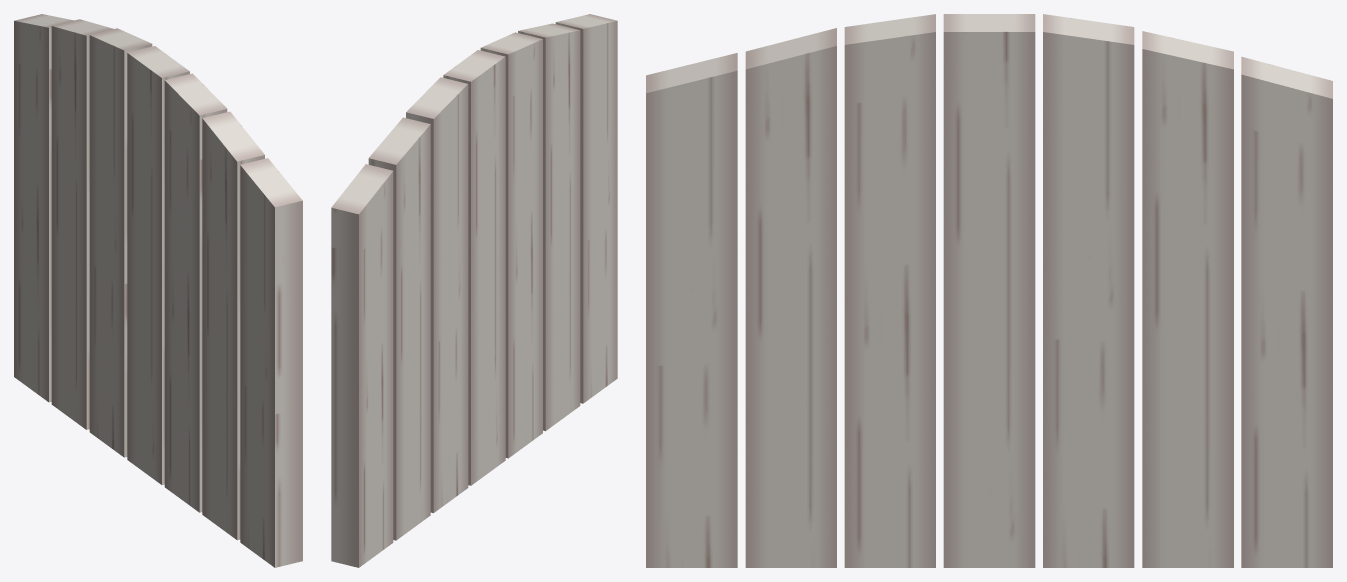
File: bg_fence_door.FBX
3 renders of one model, left to right at view 1: azimuth 30°, elevation 25°; view 2: azimuth 150°, elevation 25°; view 3: azimuth 270°, elevation 25°, orthographic. The views are drawn at different scales.
Visible parts, largest first — view 1: bg_fence_door; view 2: bg_fence_door; view 3: bg_fence_door.
Part boxes in pixels (box(x1,y1,x2,y2)): bg_fence_door: box(14, 14, 302, 567); bg_fence_door: box(331, 14, 617, 567); bg_fence_door: box(646, 14, 1332, 567).
Bounding box in the file's own units: 1.69 × 23.6 × 27.4.
